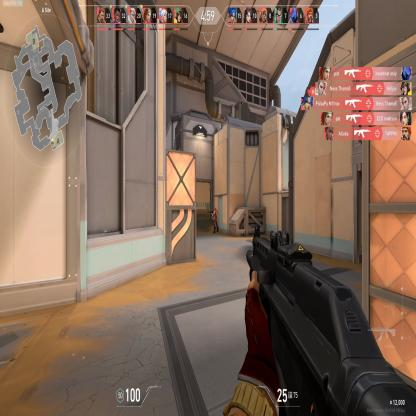enemy: (210, 206, 218, 234)
